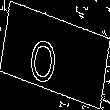O_N: (39, 25, 71, 85)
